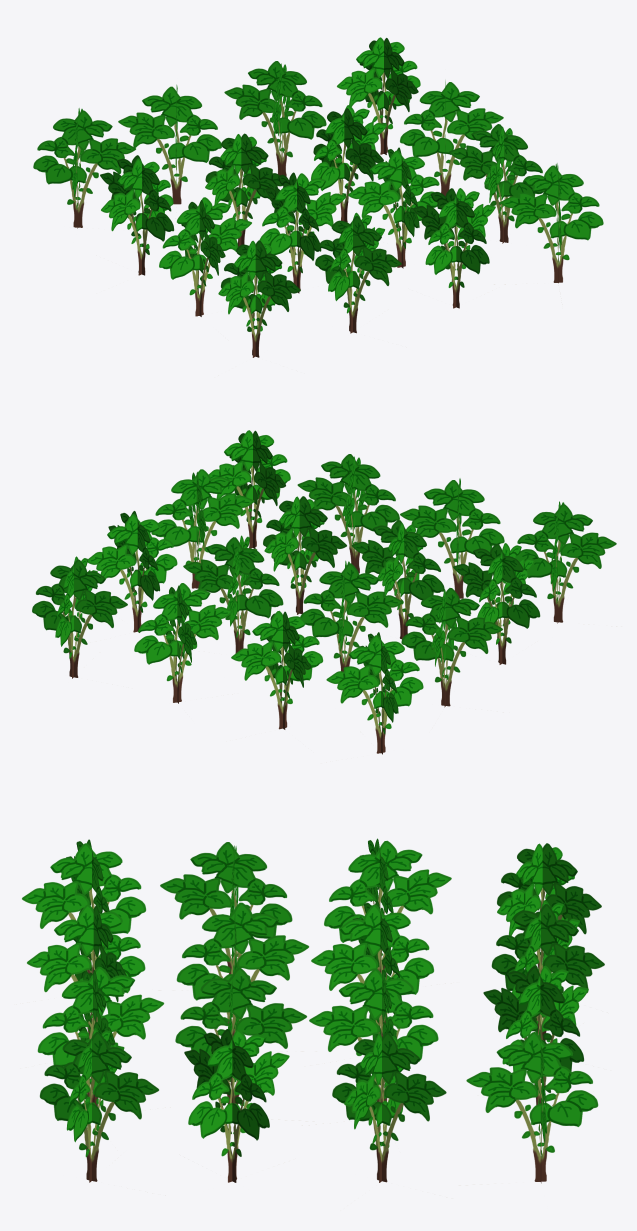
Rendered from potato_1.glb.
3 views of the same model, one above another, from view 1: azimuth 30°, elevation 25°; view 2: azimuth 150°, elevation 25°; view 3: azimuth 270°, elevation 25° (orthographic). The views are drawn at different scales.
Visible parts, largest first — view 1: Potatoe_F2; view 2: Potatoe_F2; view 3: Potatoe_F2.
Boxes of the visible parts, x1,y1,x2,y2 form: Potatoe_F2: (33, 37, 603, 357); Potatoe_F2: (32, 430, 616, 754); Potatoe_F2: (22, 838, 604, 1183).
Size of the model in its own units: 2.23 by 0.603 by 2.22.
1 material, 1 textured.
